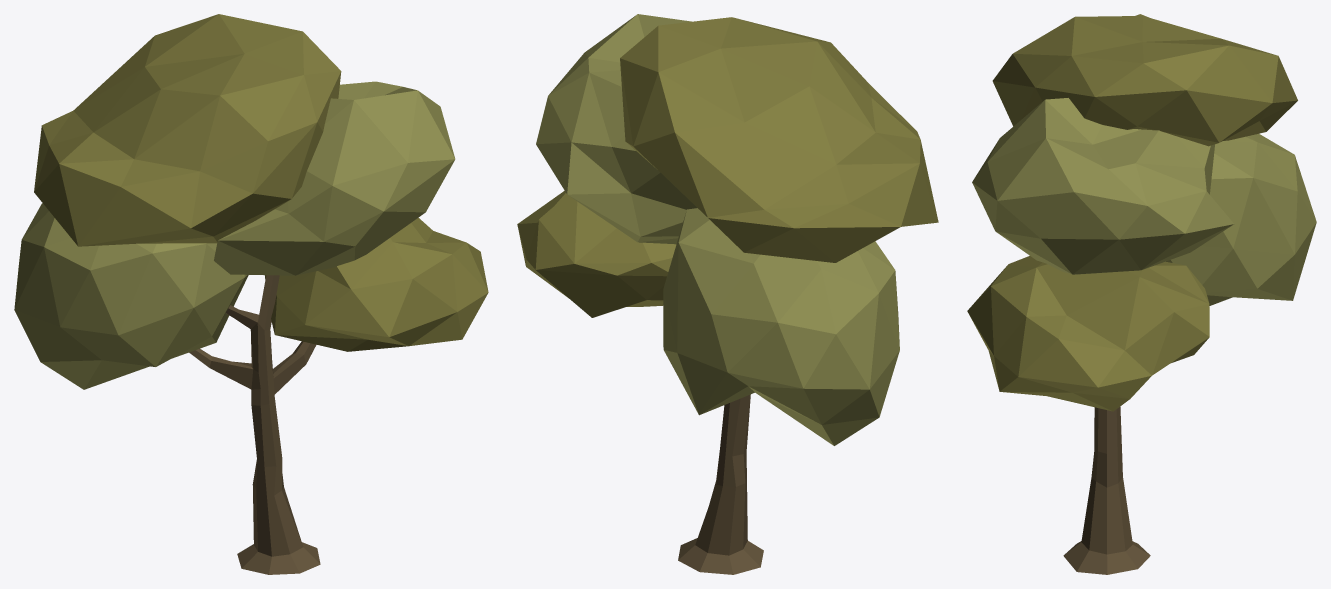
Rendered from enchantedforest_tree_3.fbx.
3 renders of one model, left to right at view 1: azimuth 30°, elevation 25°; view 2: azimuth 150°, elevation 25°; view 3: azimuth 270°, elevation 25°, orthographic. The views are drawn at different scales.
Parts seen in each view (by area): view 1: Icosphere.013, Cylinder.009; view 2: Icosphere.013, Cylinder.009; view 3: Icosphere.013, Cylinder.009.
Part boxes in pixels (x1,y1,x2,y2): Icosphere.013: (14, 14, 488, 389); Cylinder.009: (189, 275, 320, 574); Icosphere.013: (517, 14, 938, 445); Cylinder.009: (678, 394, 763, 574); Icosphere.013: (967, 14, 1316, 411); Cylinder.009: (1063, 406, 1150, 574).
Bounding box in the file's own units: 7.64 × 9.12 × 5.6.
